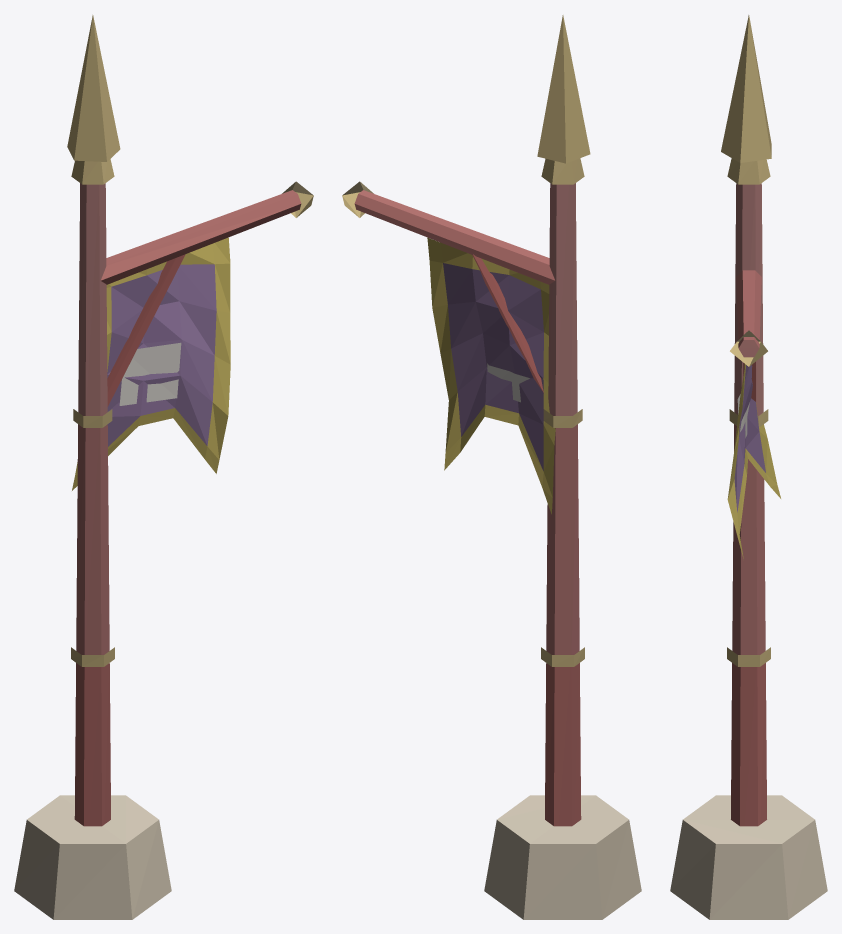
File: flag.gonfalon.zifan__pole.ground.miaogan__armHang.glb
The picture shows the model from 3 angles, left to right: view 1: azimuth 30°, elevation 25°; view 2: azimuth 150°, elevation 25°; view 3: azimuth 270°, elevation 25°; orthographic projection.
Visible parts, largest first — view 1: flag.gonfalon.zifan; view 2: flag.gonfalon.zifan; view 3: flag.gonfalon.zifan.
Boxes of the visible parts, left/top/right/bottom form: flag.gonfalon.zifan: left=14, top=15, right=313, bottom=919; flag.gonfalon.zifan: left=342, top=15, right=641, bottom=919; flag.gonfalon.zifan: left=670, top=15, right=827, bottom=919.
Bounding box in the file's own units: 1.72 × 5.16 × 0.84.
